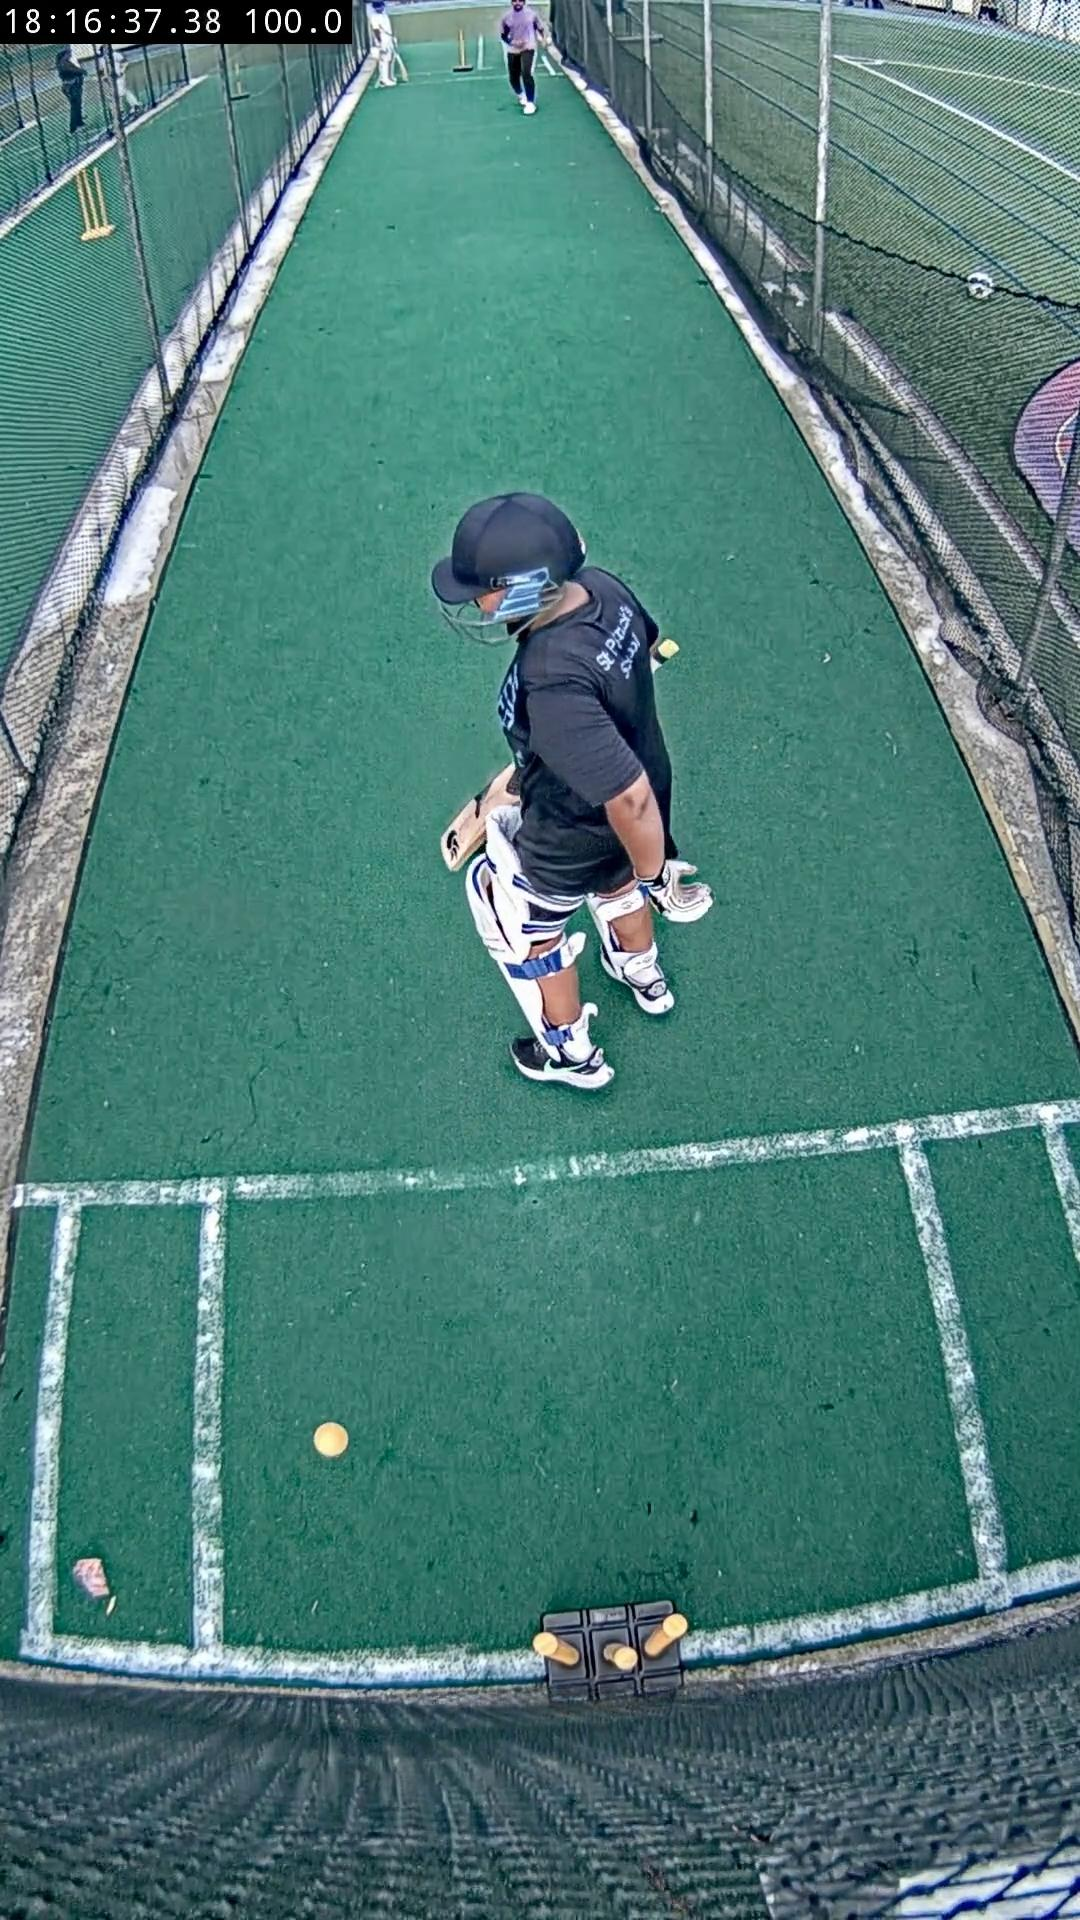ball: (315, 1422, 348, 1458)
bat: (439, 765, 521, 868)
gloves: (637, 858, 712, 923)
helmet: (431, 492, 585, 604)
pads: (465, 855, 543, 1035)
stumps: (533, 1601, 686, 1701)
